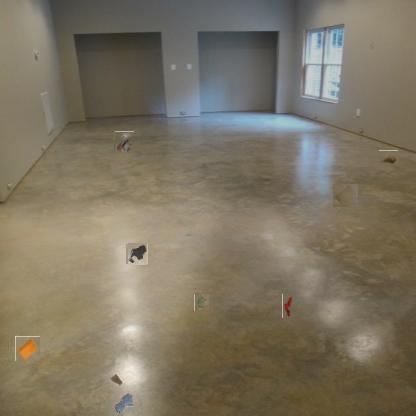dirty: (15, 336, 40, 361), (332, 183, 358, 207), (114, 131, 134, 154), (378, 150, 398, 165), (194, 293, 209, 311), (282, 294, 293, 318), (108, 372, 124, 386)
liquid: (114, 394, 134, 416), (127, 244, 147, 264)
